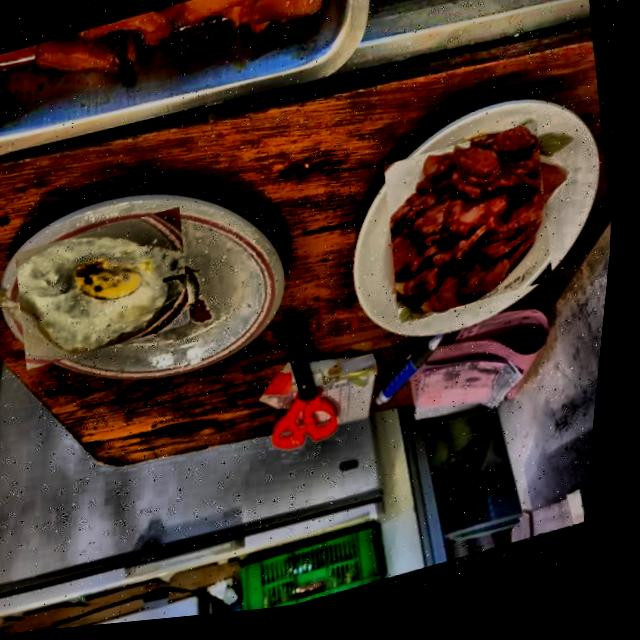Food: (375, 129, 573, 337), (10, 208, 209, 375)
